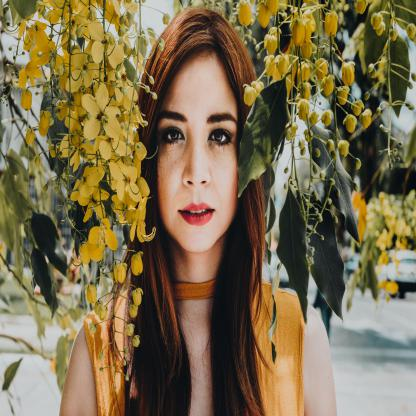Eye: (205, 125, 237, 150), (158, 123, 188, 148)
Mouth: (174, 198, 218, 230)
Nose: (181, 143, 213, 193)
